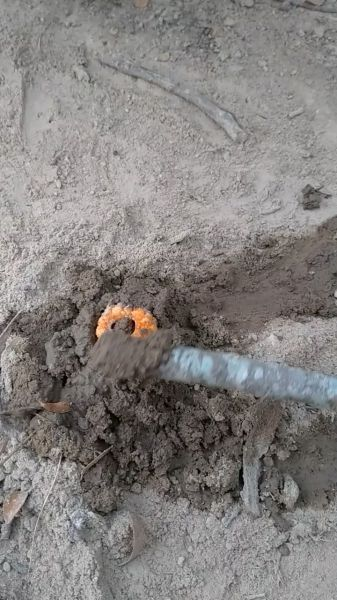eggs: (91, 294, 160, 353)
